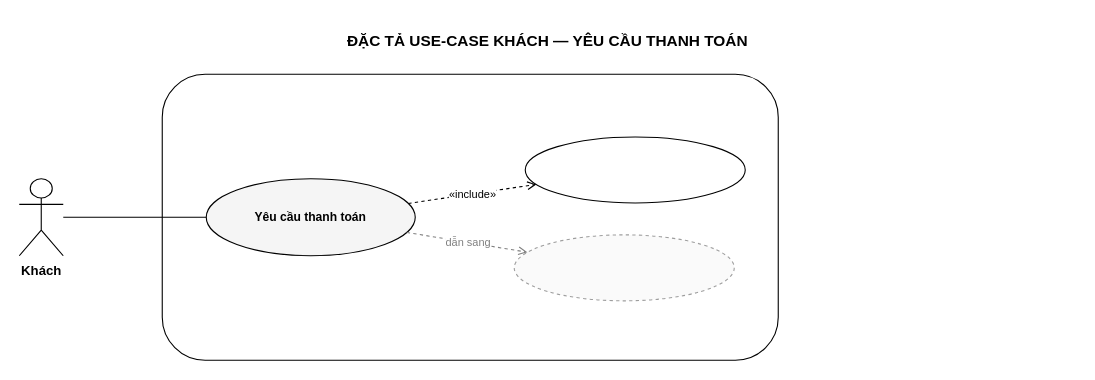
Image size: 1095x380. Some labels were removed from this diagram. The box of each missing label's shape, as (x1, y1, x2, y2) in pixels:
Gửi yêu cầu muốn thanh toán cho nhân viên: (524, 136, 745, 203)
Xem hóa đơn (UC-21): (513, 234, 734, 301)
